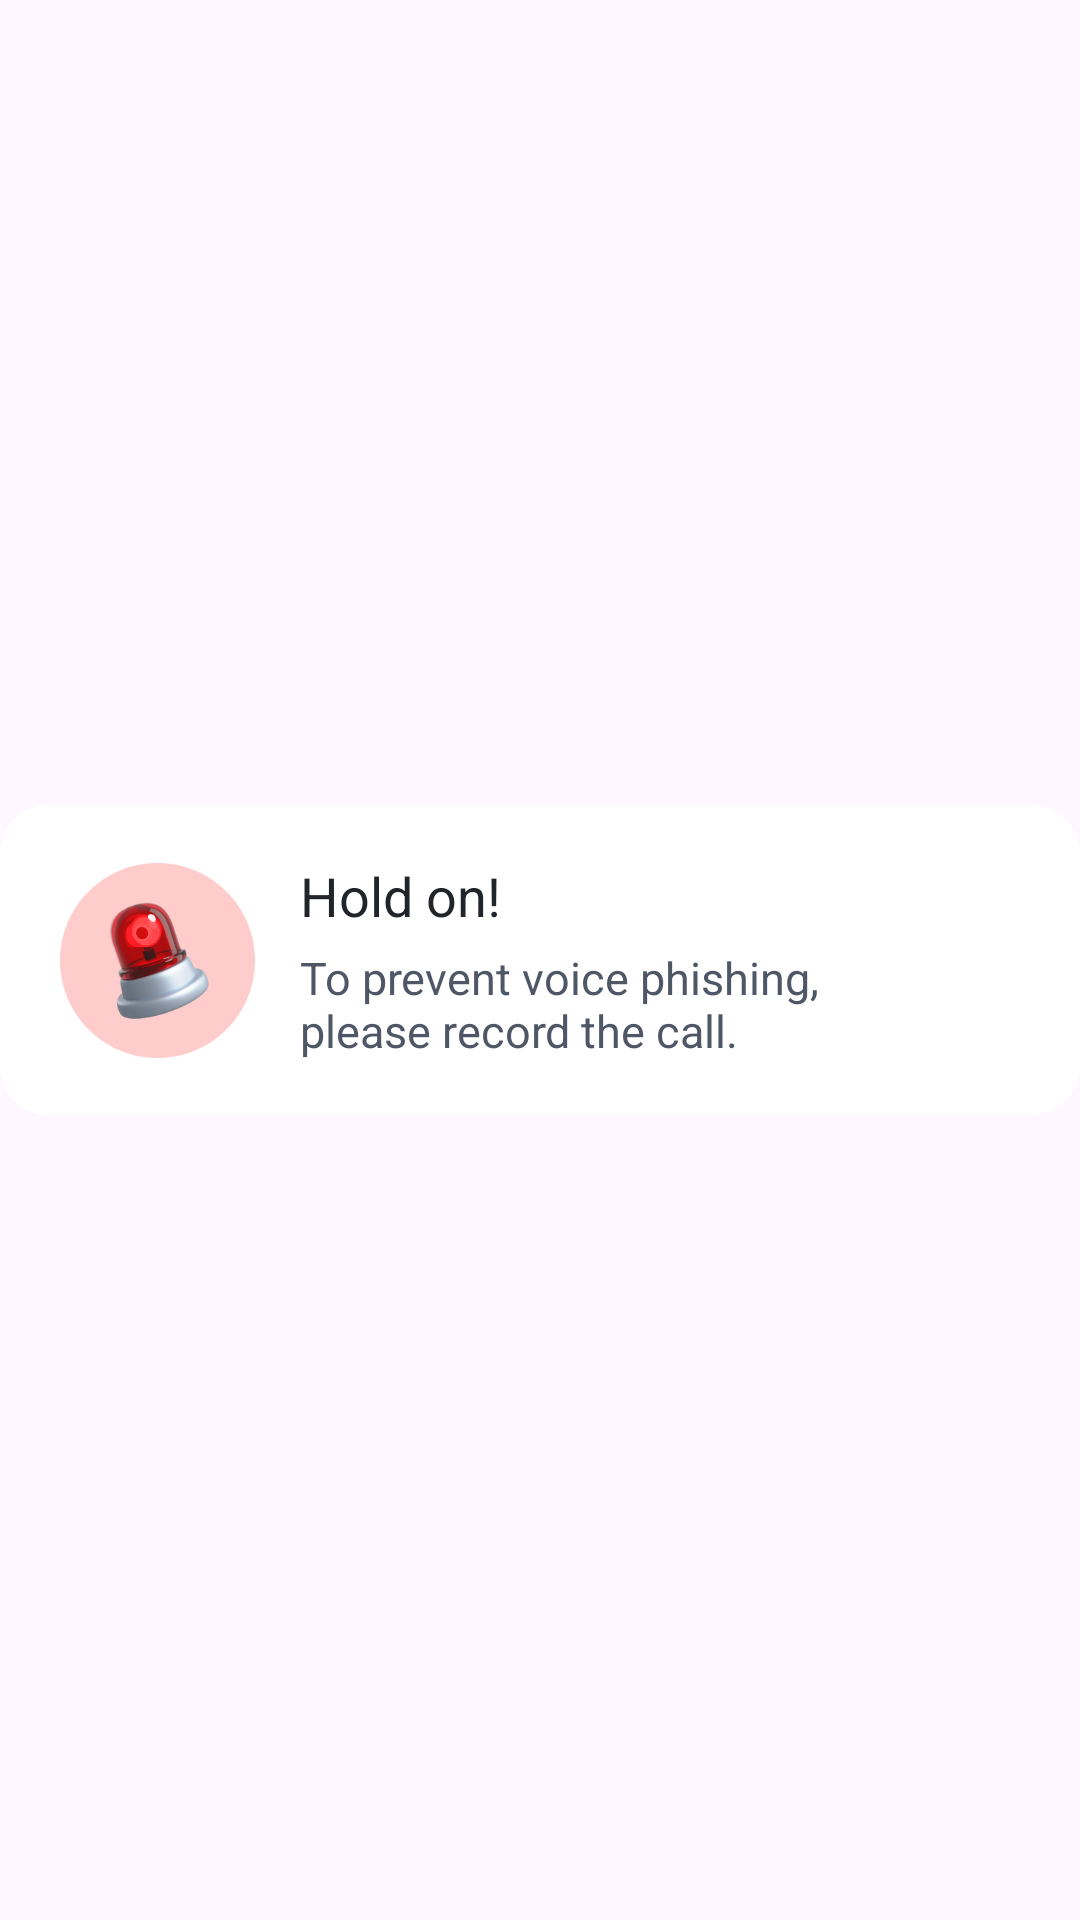

Locate icon controls on the screen. Image size 1080×1920, boxes as {"x1": x1, "y1": y1, "x2": x2, "y2": y2}.
warning: {"x1": 60, "y1": 863, "x2": 255, "y2": 1058}
